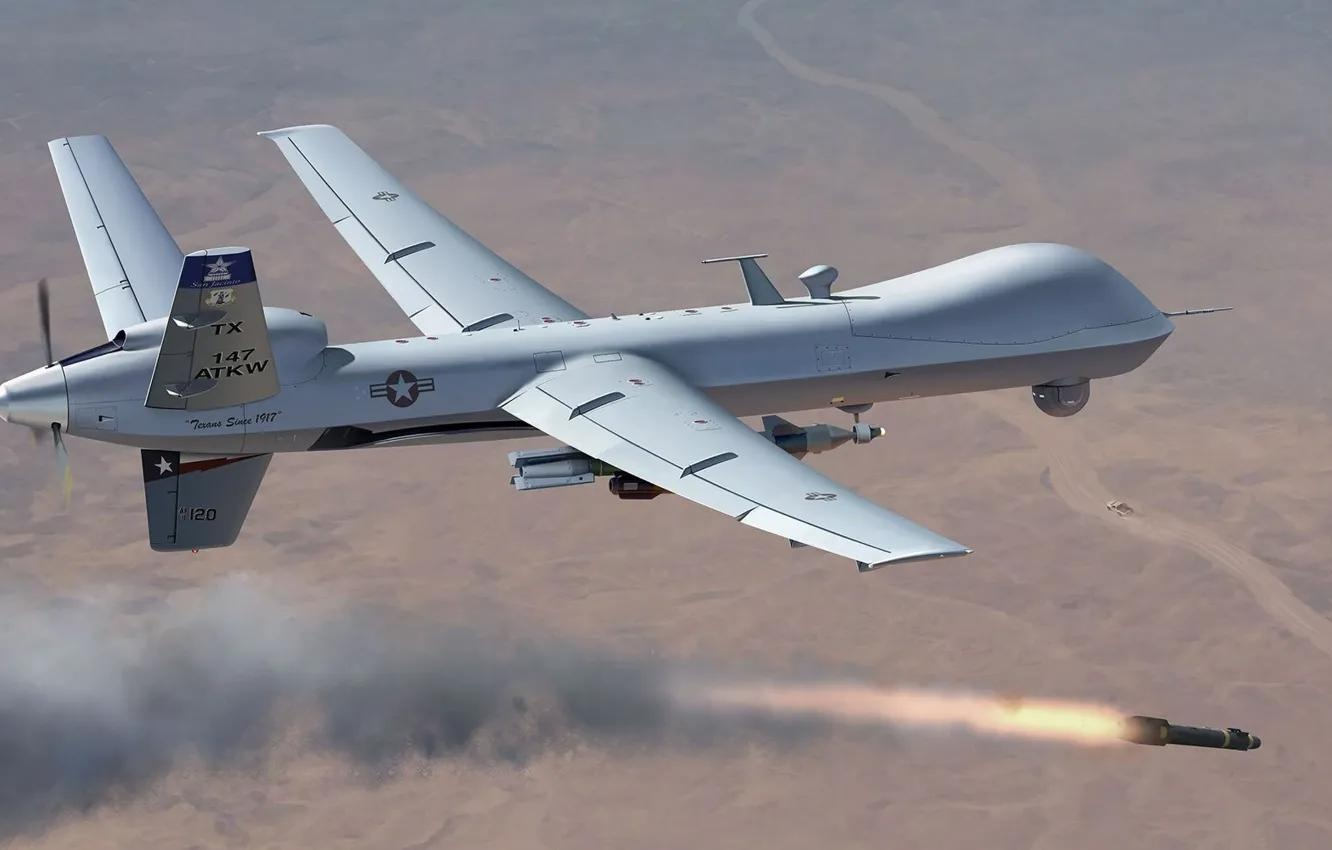aircraft: (1, 121, 1189, 575)
